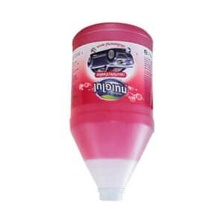cleaning_solution: (66, 19, 157, 203)
